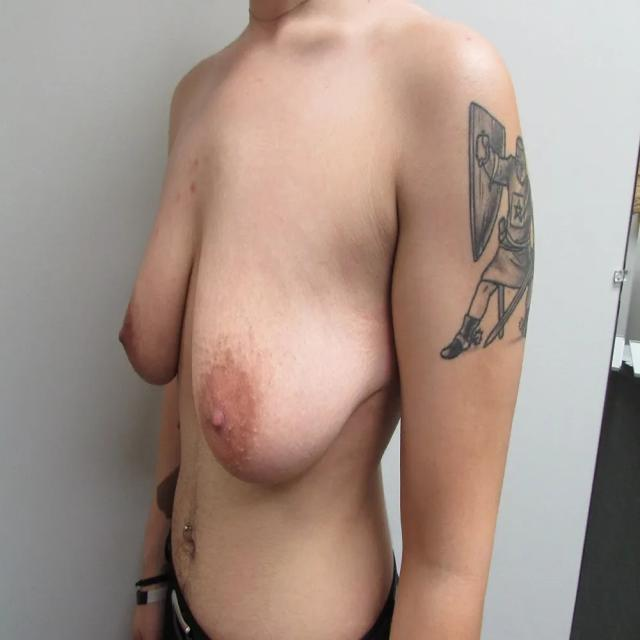Seno ileso: (189, 166, 388, 509), (112, 186, 186, 404)
